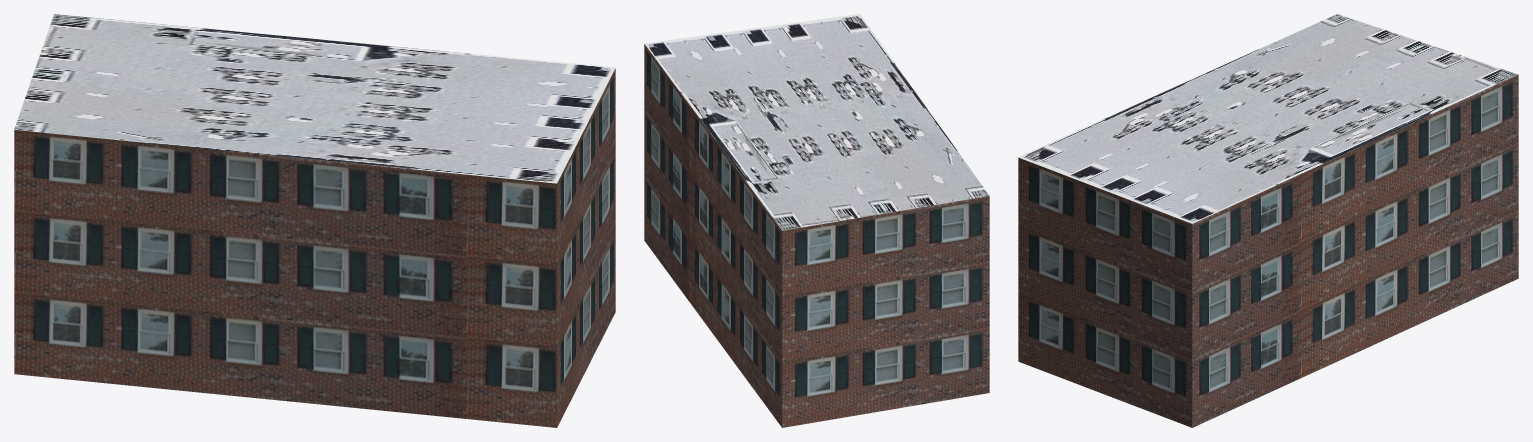
The model's file is ResTex__870.fbx.
The picture shows the model from 3 angles, left to right: view 1: azimuth 30°, elevation 25°; view 2: azimuth 150°, elevation 25°; view 3: azimuth 270°, elevation 25°; orthographic projection. The views are drawn at different scales.
Visible parts, largest first — view 1: CityEngineMaterial_14_m, CityEngineMaterial_8_m; view 2: CityEngineMaterial_14_m, CityEngineMaterial_8_m; view 3: CityEngineMaterial_14_m, CityEngineMaterial_8_m.
Part boxes in pixels (box(x1,y1,x2,y2)): CityEngineMaterial_14_m: box(14, 68, 615, 427); CityEngineMaterial_8_m: box(14, 14, 615, 183); CityEngineMaterial_14_m: box(644, 44, 989, 427); CityEngineMaterial_8_m: box(644, 14, 989, 230); CityEngineMaterial_14_m: box(1018, 74, 1518, 427); CityEngineMaterial_8_m: box(1018, 14, 1518, 223).
Bounding box in the file's own units: 19.85 × 9 × 20.
Materials: 2 (2 with a texture image).
